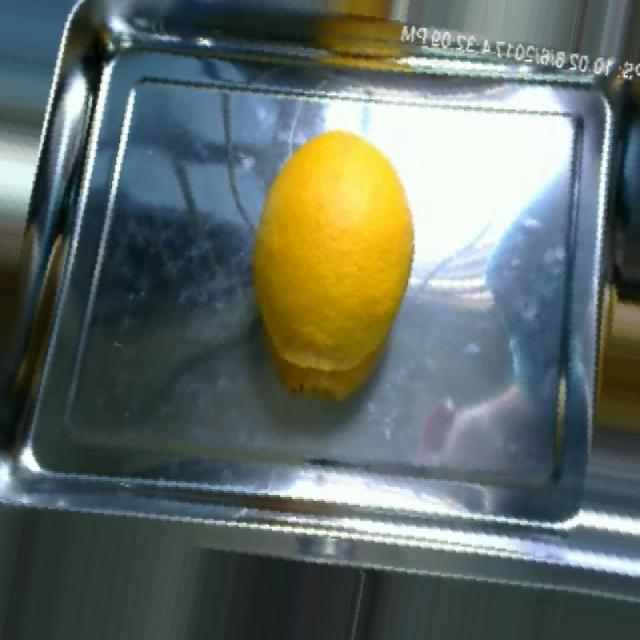Fruit: (246, 118, 418, 408), (588, 272, 640, 467)
